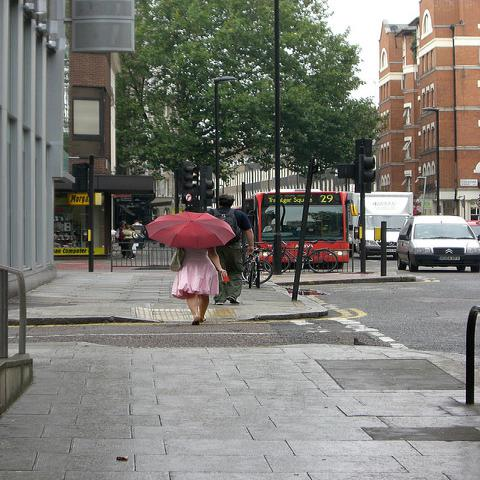bus: (249, 189, 358, 270)
car: (396, 215, 479, 274), (466, 220, 479, 226)
truck: (345, 191, 413, 257)
